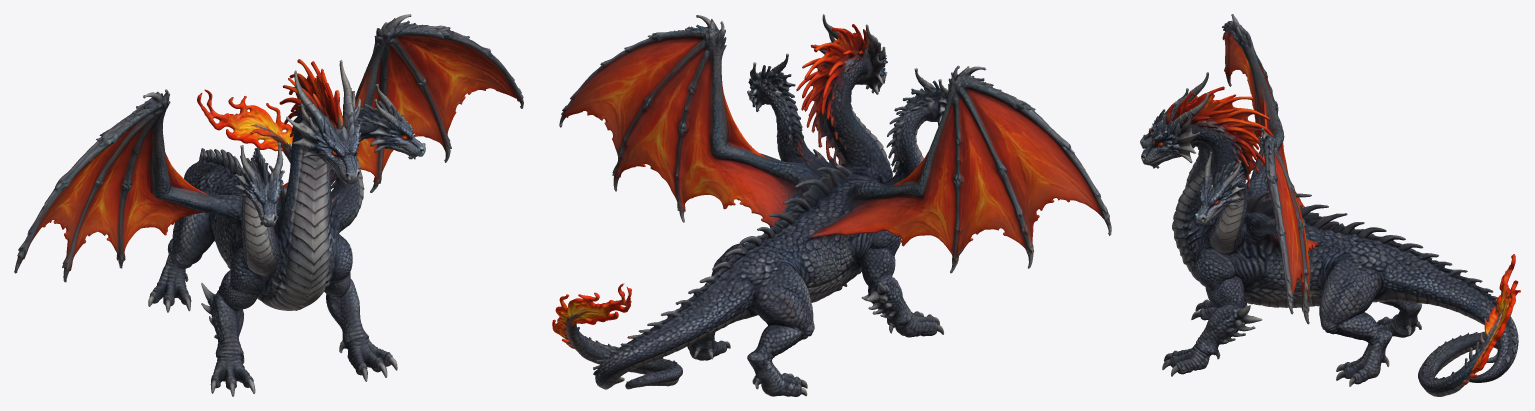
The model's file is emberwing-dragon.glb.
3 views of the same model, side by side, from view 1: azimuth 30°, elevation 25°; view 2: azimuth 150°, elevation 25°; view 3: azimuth 270°, elevation 25° (orthographic). The views are drawn at different scales.
Visible parts, largest first — view 1: tripo_node_7ed45b84-2f98-4440-a9b1-a7116b45e659; view 2: tripo_node_7ed45b84-2f98-4440-a9b1-a7116b45e659; view 3: tripo_node_7ed45b84-2f98-4440-a9b1-a7116b45e659.
Boxes of the visible parts, box(x1,y1,x2,y2) form: tripo_node_7ed45b84-2f98-4440-a9b1-a7116b45e659: box(14, 14, 523, 396); tripo_node_7ed45b84-2f98-4440-a9b1-a7116b45e659: box(552, 14, 1111, 396); tripo_node_7ed45b84-2f98-4440-a9b1-a7116b45e659: box(1140, 14, 1520, 396).
Size of the model in its own units: 0.9791 by 0.525 by 0.6706.
1 material, 1 textured.
